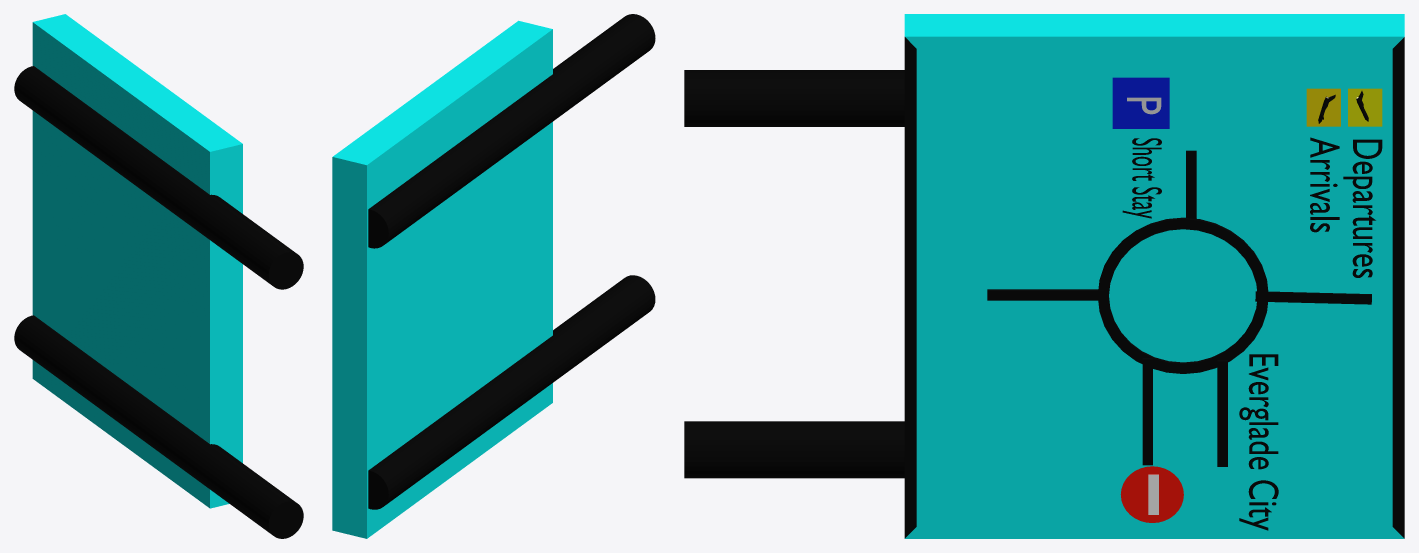
The model's file is ECIA_sign_3.fbx.
3 views of the same model, side by side, from view 1: azimuth 30°, elevation 25°; view 2: azimuth 150°, elevation 25°; view 3: azimuth 270°, elevation 25° (orthographic). The views are drawn at different scales.
Parts seen in each view (by area): view 1: ECIA_sign_3; view 2: ECIA_sign_3; view 3: ECIA_sign_3.
Part boxes in pixels (x1=…): ECIA_sign_3: x1=14, y1=14, x2=303, y2=538; ECIA_sign_3: x1=332, y1=14, x2=655, y2=538; ECIA_sign_3: x1=684, y1=14, x2=1404, y2=538.
Size of the model in its own units: 7.06 by 38.93 by 50.59.
